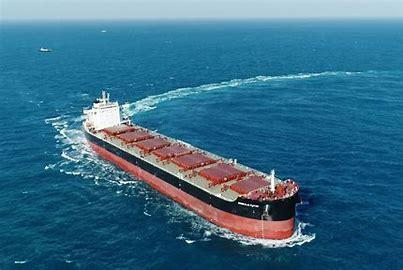Ship: (80, 92, 301, 246)
